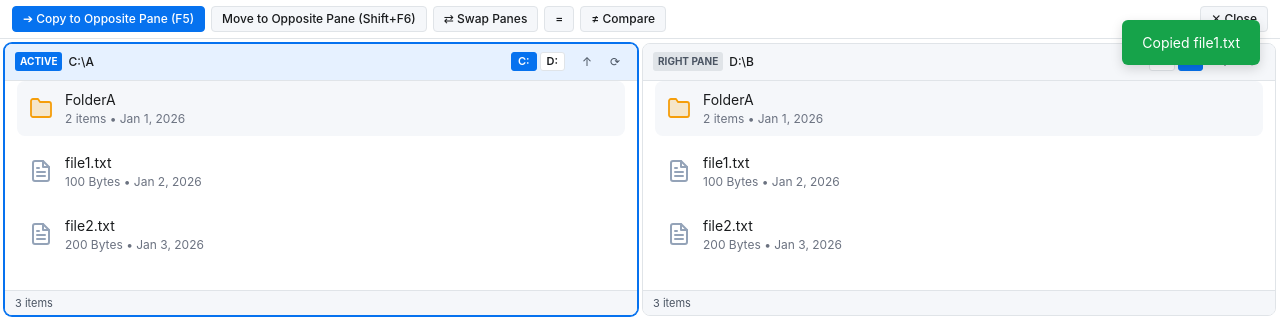
Test: TP-FE-UI-07 & TP-FE-UI-08: DualPane keyboard isolation, drive switch, drop, and Shift+F6 (BUG-029, BUG-030, BUG-031) › TP-FE-UI-08: drops into target pane, blocks Shift+F6 move_to_trash on identical paths, and ignores plain F6
This screenshot has width=1280, height=334.
Earlier steps of the test are not shown.
Later steps or results of the test are not shown.
Expected: the text "C:\\A" is shown, [68,53,94,71]
Expected: the text "D:\\B" is shown, [729,53,754,71]
What coordinates should you click on to do the following:
click the button titled "Equalize (A = B)"
I would click on:
 (559, 19)
Its box is [544,6,574,32].
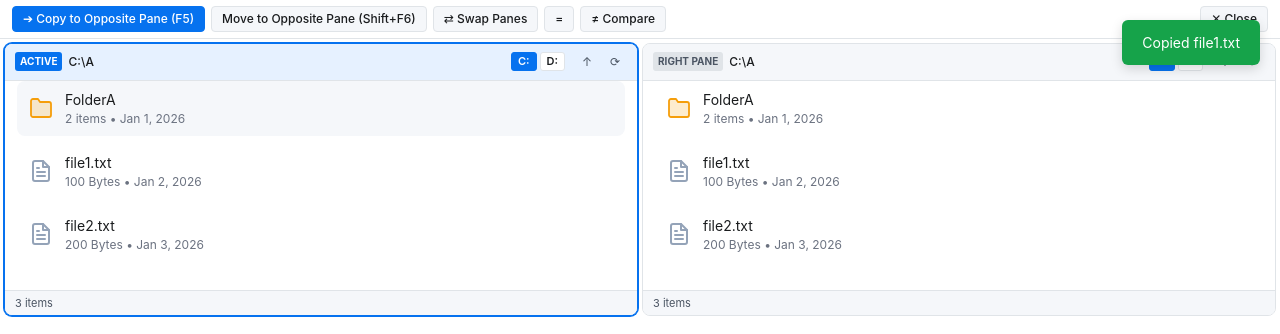
Now the text "C:\\A" next to "Right Pane" is shown, box [729,54,755,69]
